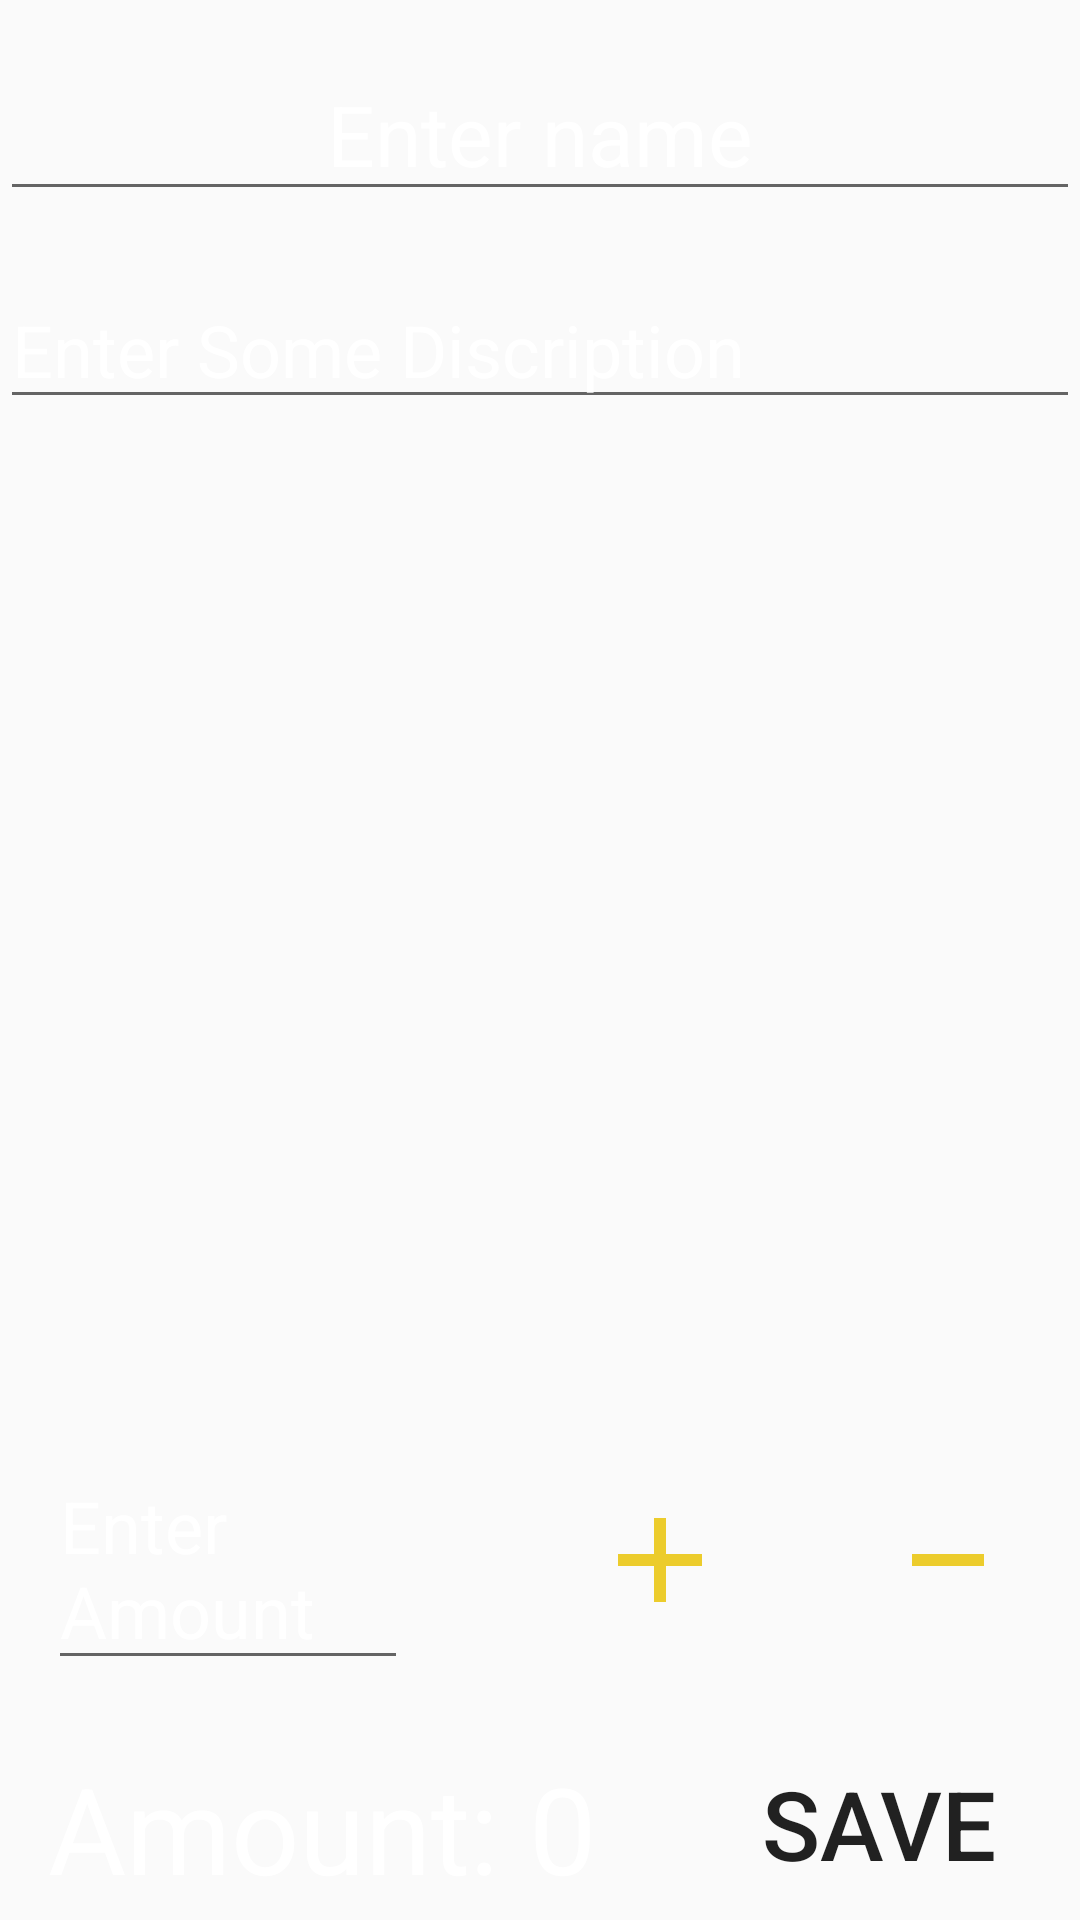

Icon bounding boxes for this 1080px x 1920px phone screenshot, format (x1, y1, x2, y2):
plus: (618, 1518, 702, 1602)
